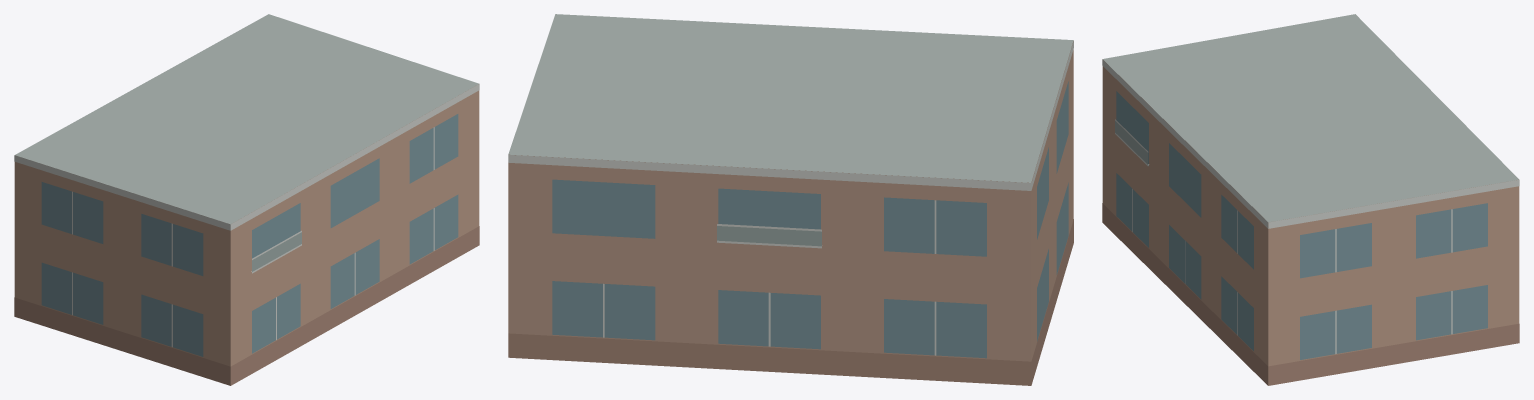
The model's file is survey-upis-32470517.glb.
3 renders of one model, left to right at view 1: azimuth 30°, elevation 25°; view 2: azimuth 150°, elevation 25°; view 3: azimuth 270°, elevation 25°, orthographic. The views are drawn at different scales.
Visible parts, largest first — view 1: survey-upis-32470517.tmp; view 2: survey-upis-32470517.tmp; view 3: survey-upis-32470517.tmp.
Part boxes in pixels (x1,y1,x2,y2): survey-upis-32470517.tmp: [14, 14, 479, 385]; survey-upis-32470517.tmp: [508, 14, 1073, 385]; survey-upis-32470517.tmp: [1102, 14, 1519, 385].
Size of the model in its own units: 16.68 by 6.1 by 14.11.
